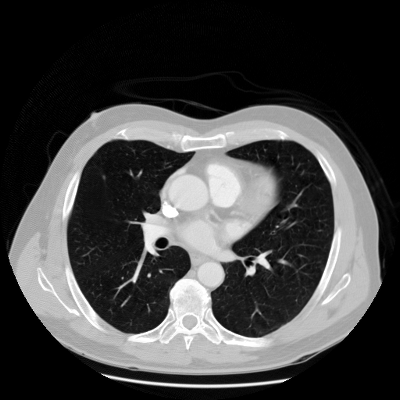nodule: (100, 174, 106, 180)
